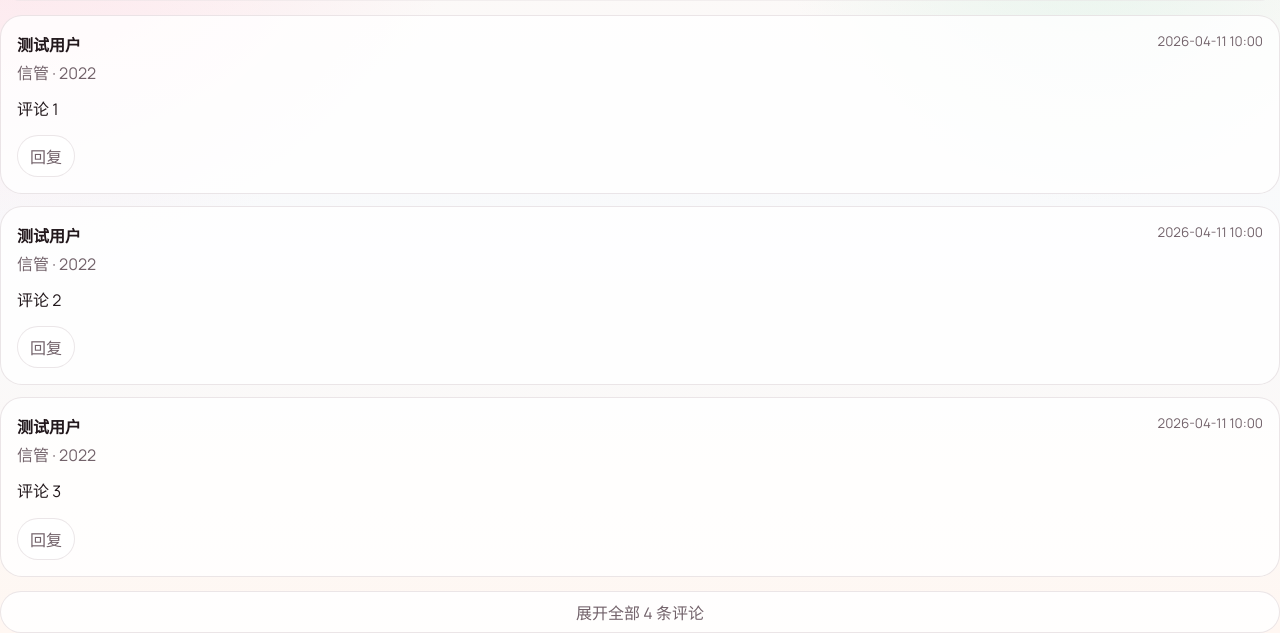
Test: collapses root comments after three items and expands on demand
(page scrolled)
Expected: the text "评论 1" is shown, [17,98,58,120]
Expected: the text "评论 2" is shown, [17,289,61,311]
Step 1. Click the button "展开全部 4 条评论" → (640, 612), box [0,591,1279,632]
(page scrolled)
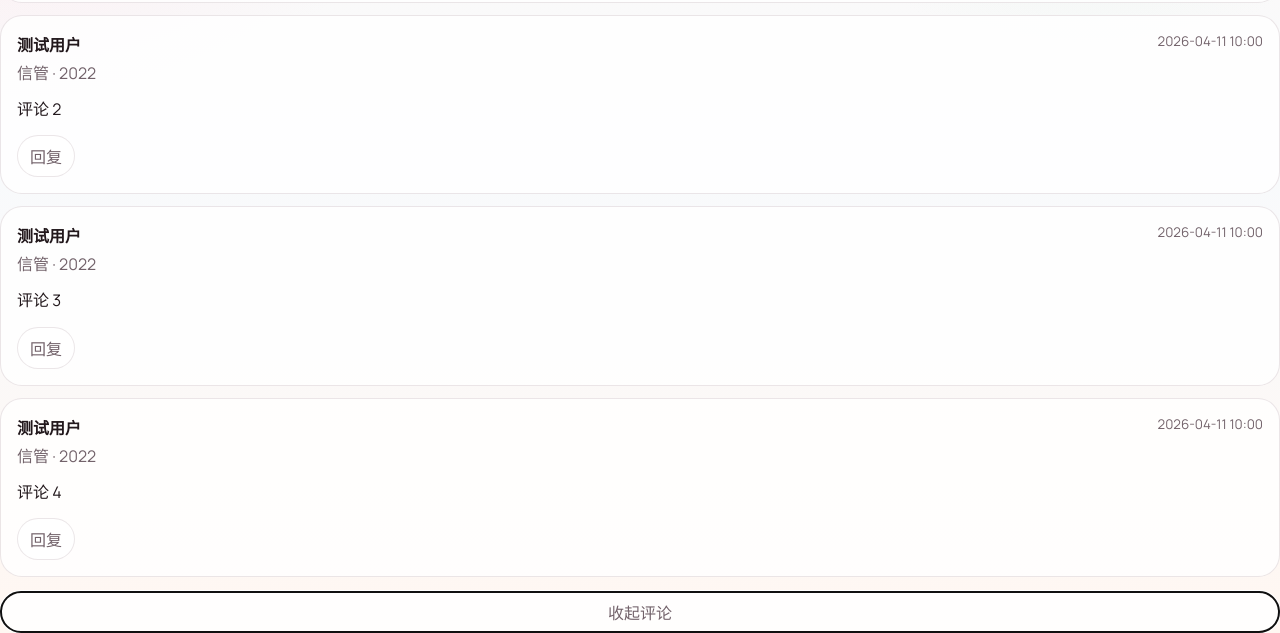
Result: the text "评论 4" is shown at [17,481,62,503]
Result: the button "收起评论" is shown at [0,591,1279,632]
